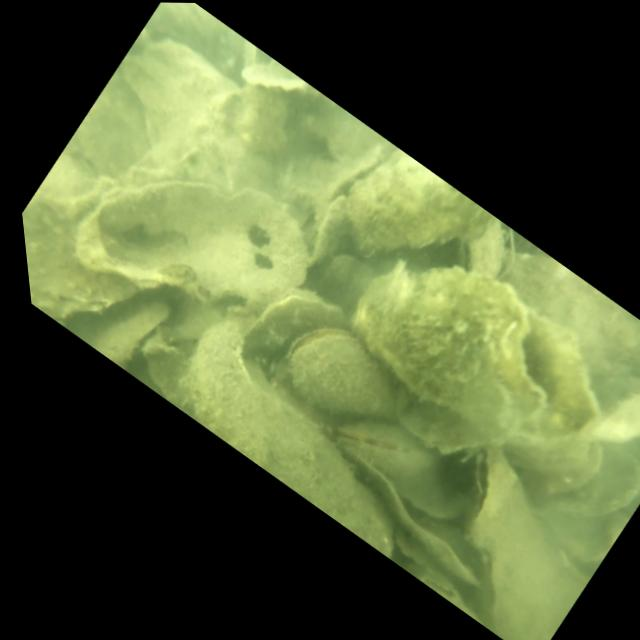Oyster-Closed: (389, 437, 632, 640), (325, 393, 445, 497), (441, 207, 530, 292)
Oyster-Indeterminate: (153, 309, 451, 557), (15, 143, 194, 353), (316, 137, 501, 304)
Oyster-Open: (324, 216, 640, 494), (51, 111, 347, 378), (264, 307, 423, 449), (518, 416, 640, 552)
